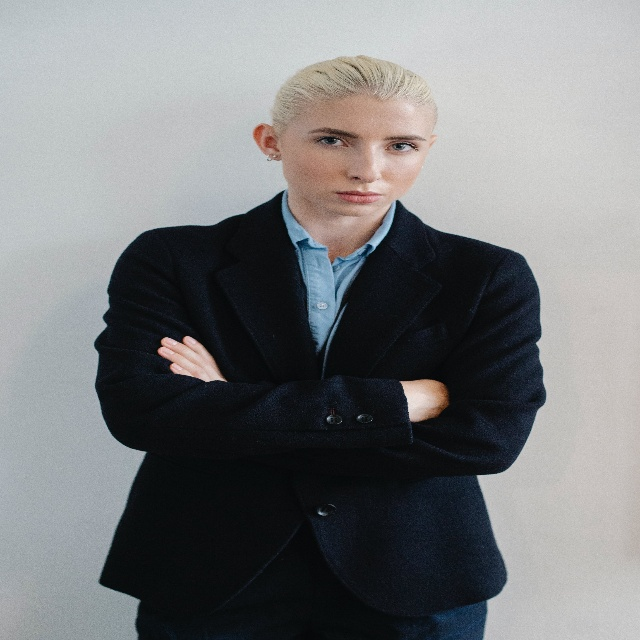Sin_guantes: (158, 330, 228, 385)
